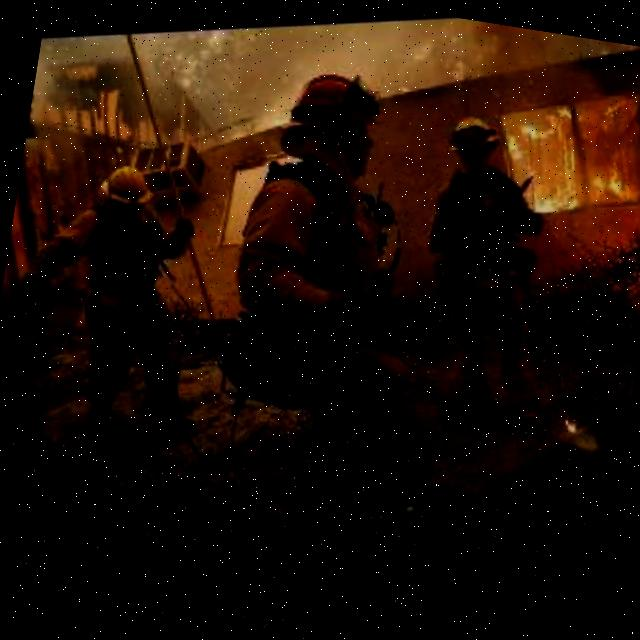fire: (485, 77, 640, 240), (545, 414, 579, 446)
